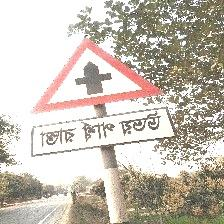Crossroad: (29, 37, 171, 159)
